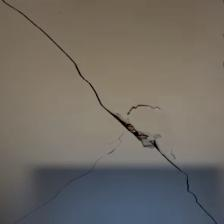Medium: (43, 28, 201, 200)
